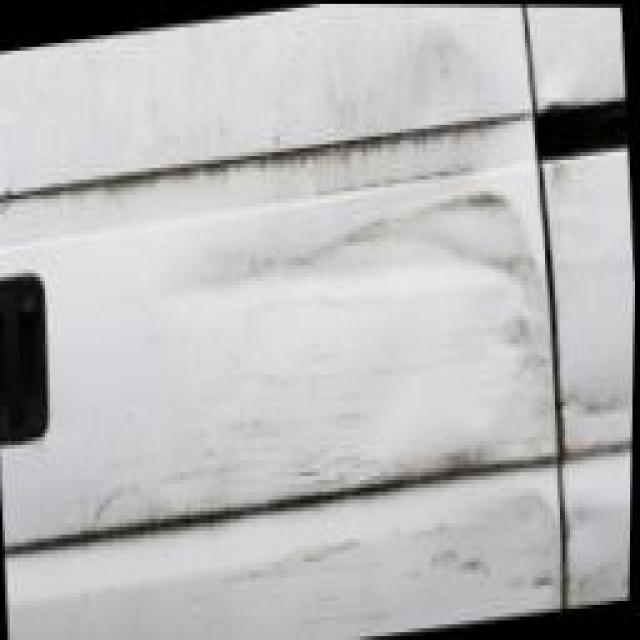Door: (0, 59, 569, 640)
